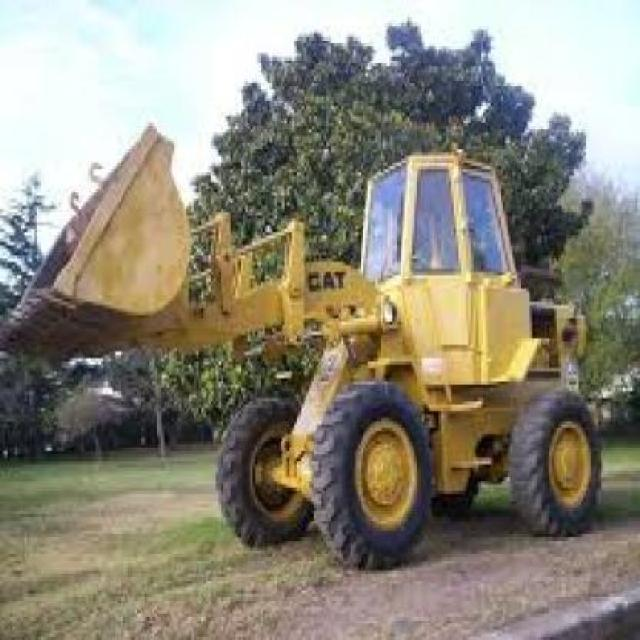buldozerpayloadergrader: (2, 95, 627, 584)
